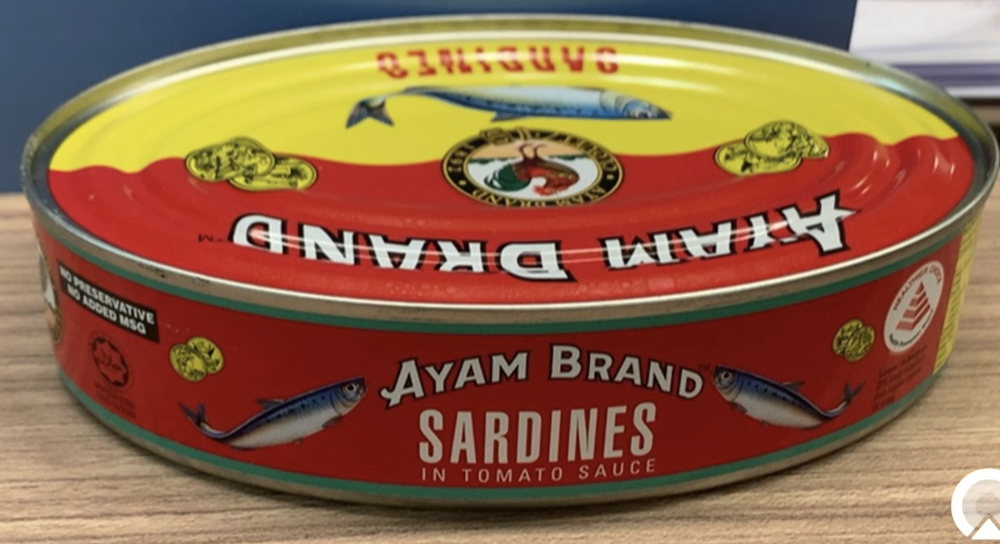sardines_450g: (75, 46, 940, 454)
